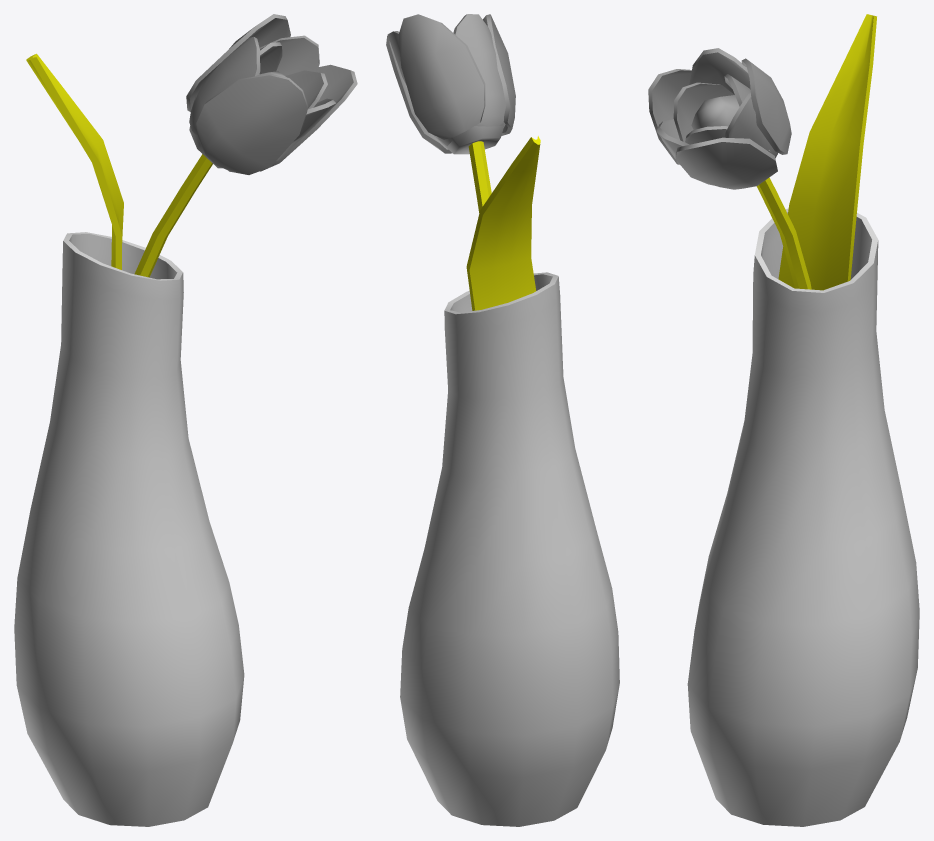
Rendered from Flower.fbx.
3 renders of one model, left to right at view 1: azimuth 30°, elevation 25°; view 2: azimuth 150°, elevation 25°; view 3: azimuth 270°, elevation 25°, orthographic. The views are drawn at different scales.
Parts seen in each view (by area): view 1: Flower; view 2: Flower; view 3: Flower.
Boxes of the visible parts, bbox=[...] form: Flower: bbox=[14, 14, 357, 826]; Flower: bbox=[386, 14, 619, 826]; Flower: bbox=[648, 14, 919, 826].
Size of the model in its own units: 31.28 by 83.41 by 26.01.
